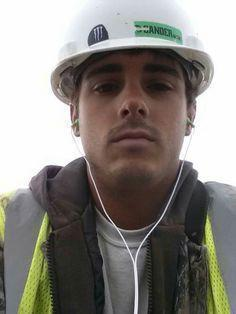helmet: (50, 0, 214, 104)
